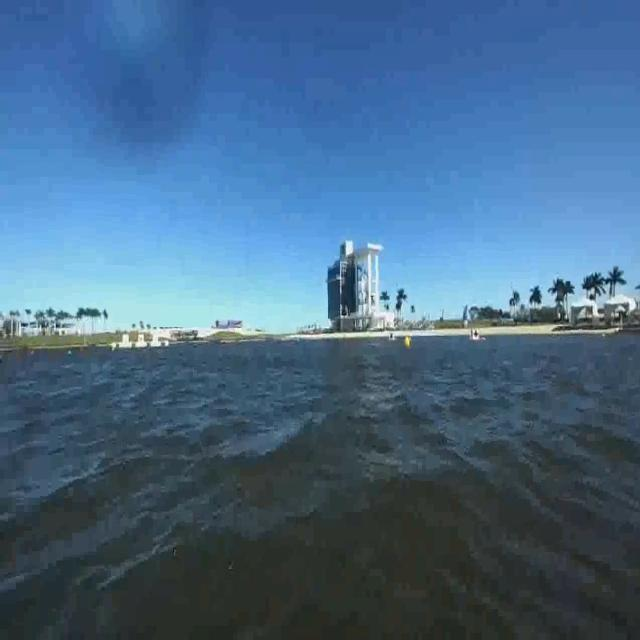yellow-buoy: (405, 336, 414, 351)
